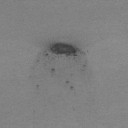iron sheet ash: (48, 42, 82, 59)
